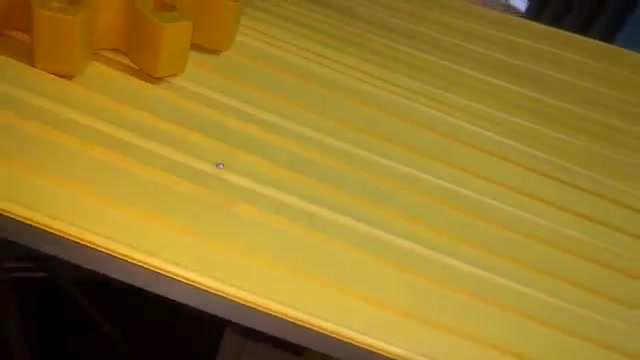gear: (2, 1, 257, 95)
